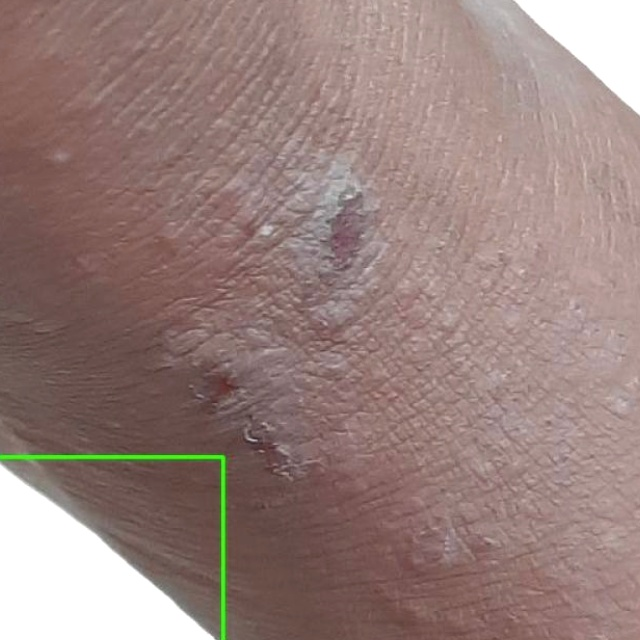Atopic Dermatitis: (0, 456, 223, 639)
